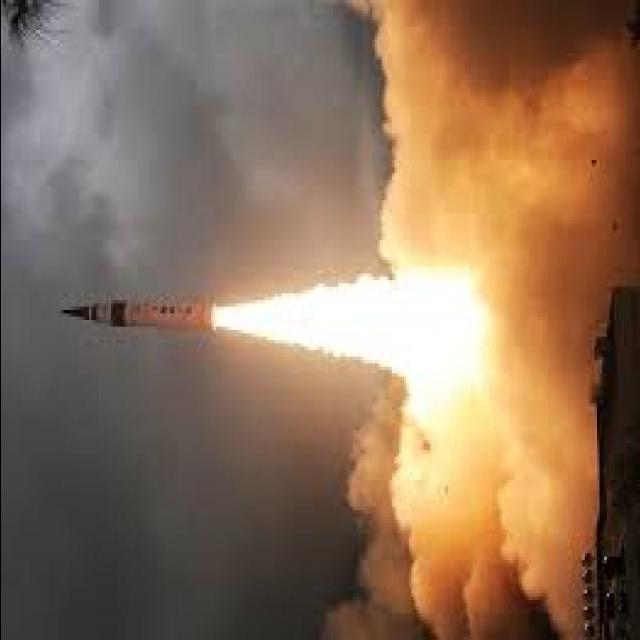missile: (61, 289, 226, 344)
